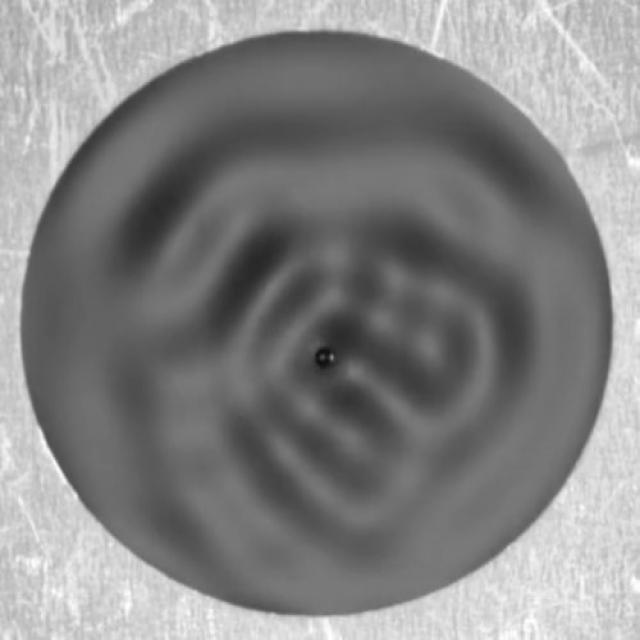droplet: (315, 348, 338, 372)
